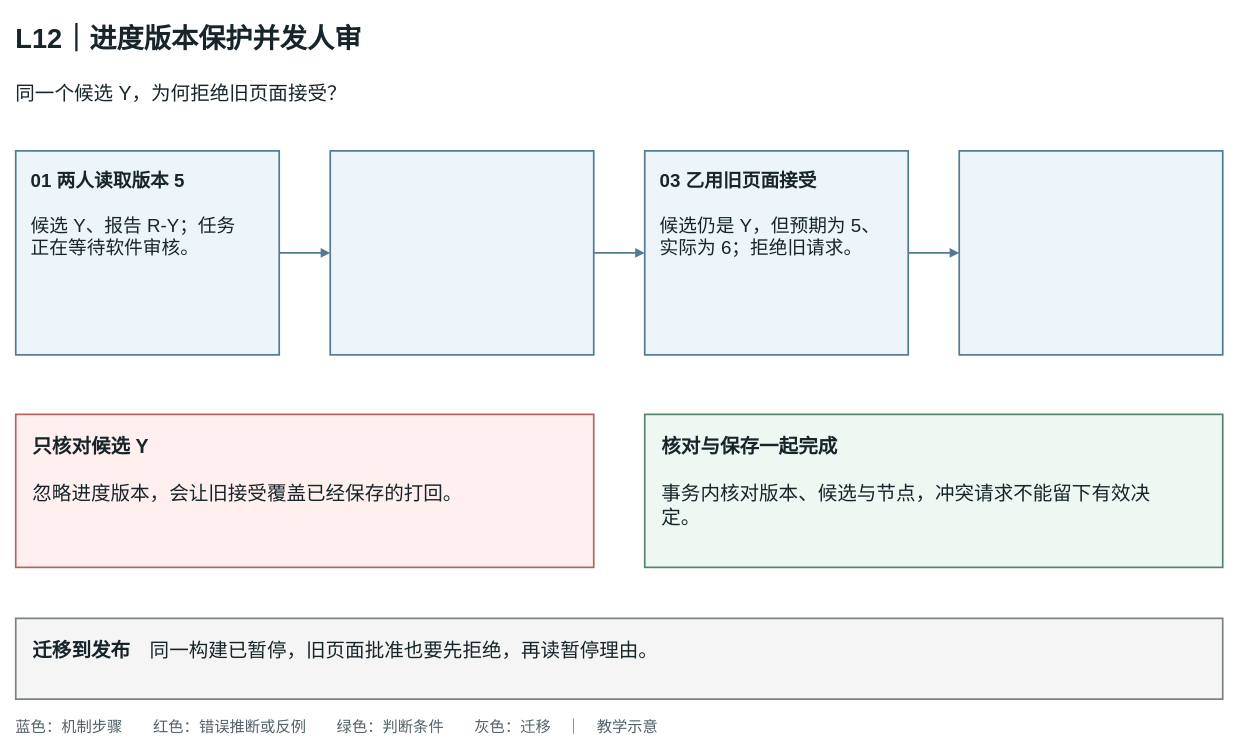
The diagram is 1238 pixels wide and 756 high, and some of its shapes have lost their labels. The shapes that lost their labels are listed below. From the top down, each one's centre as x and y in pixels, then its label:
the point at 461,252: 02 甲打回并保存 expected_version=5 匹 配；进入返工，进度升为 6。
the point at 1090,252: 04 重新读取再判断 保留甲的理由与返工状态， 按当前节点允许动作继续。
